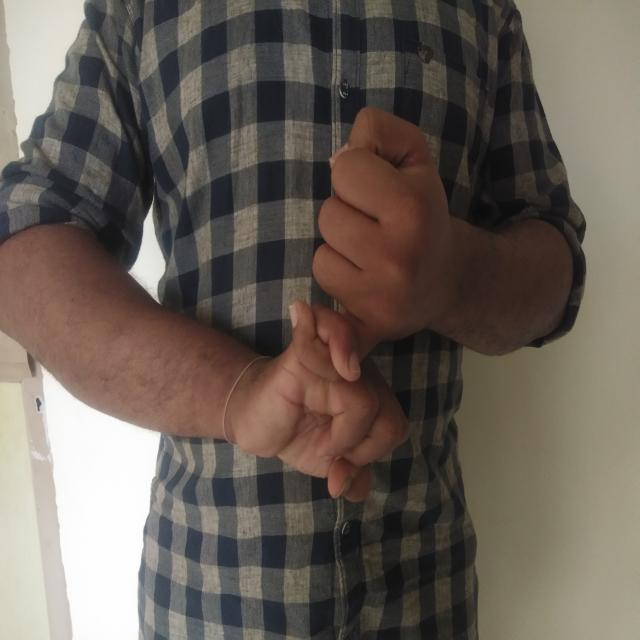S: (220, 94, 482, 521)
